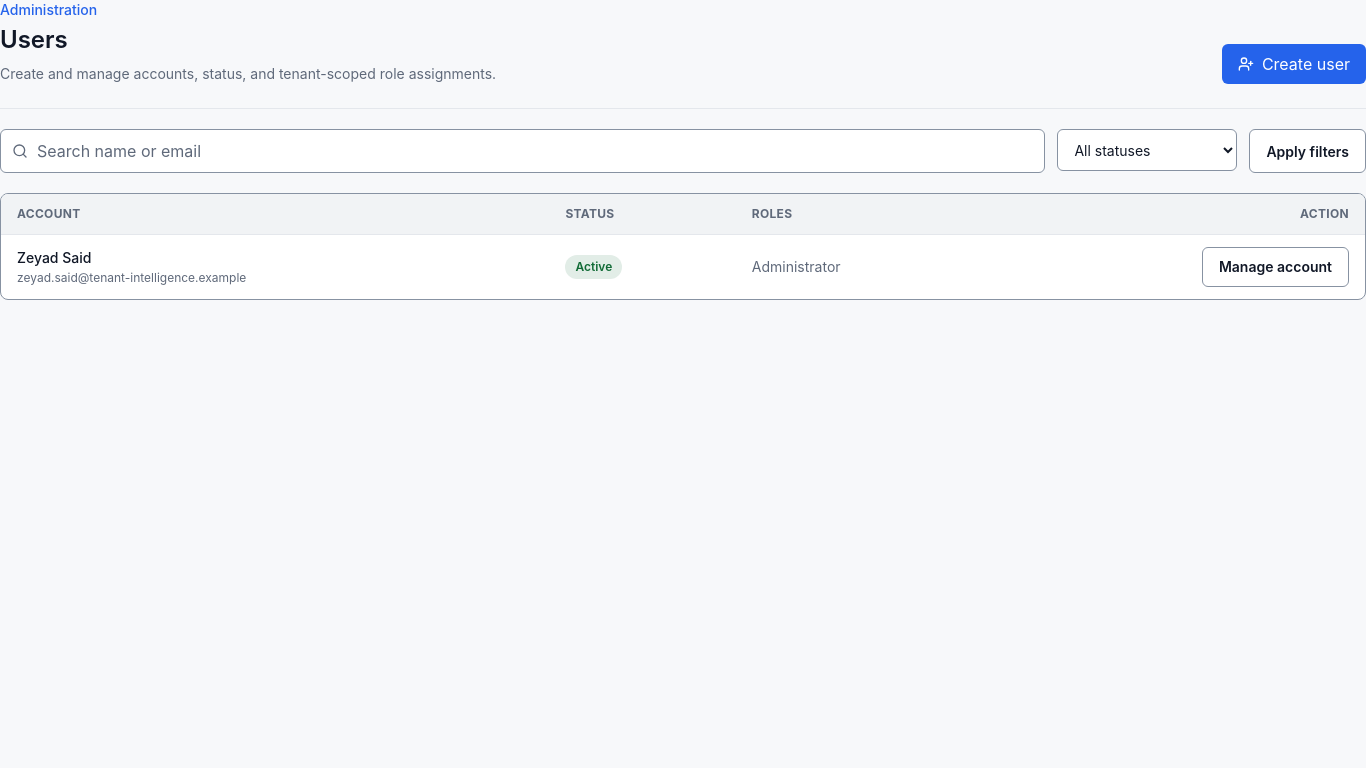
closes on the backdrop but not an inside click
Expected: the text "zeyad.said@tenant-intelligence.example" is shown, left=17, top=270, right=246, bottom=285
Click the button "Create user": (1294, 64) left=1222, top=44, right=1365, bottom=84
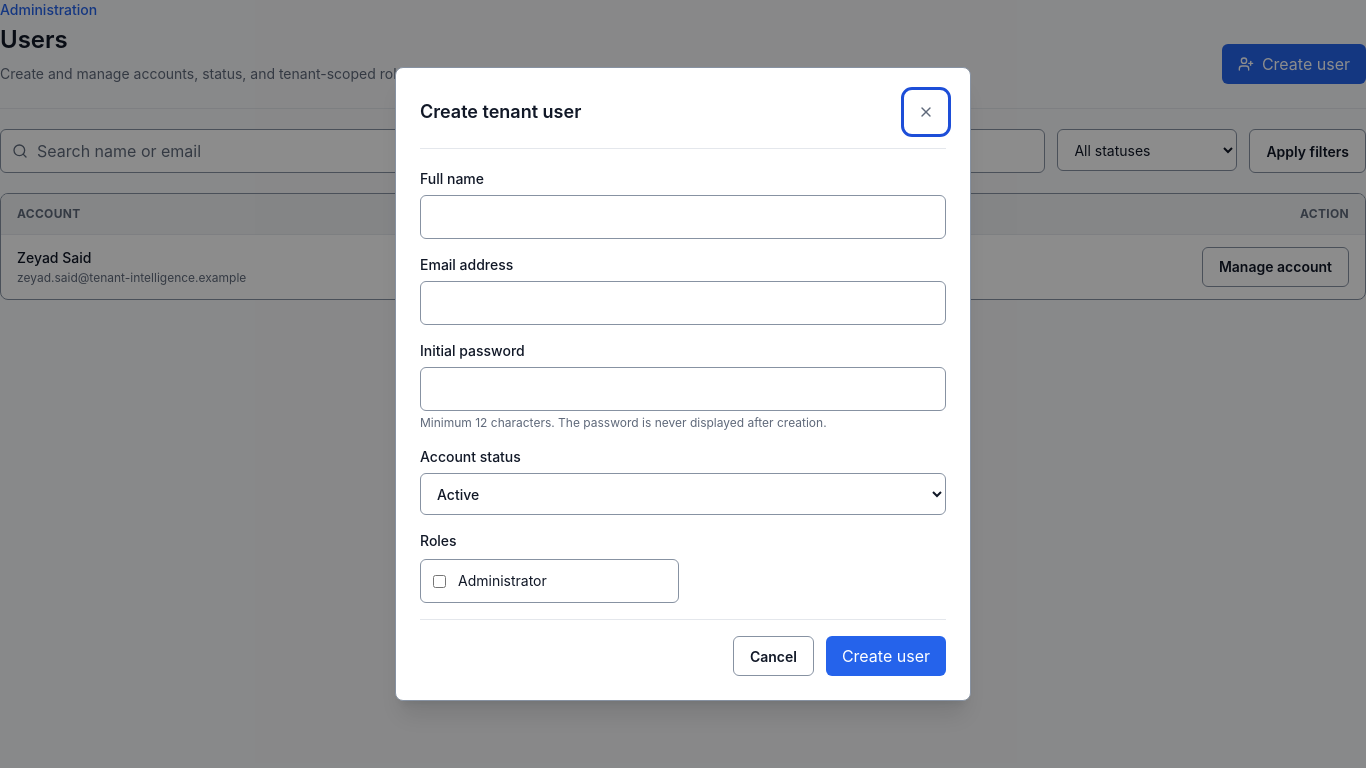
Press the mouse on the dialog "Create tenant user": (683, 384) left=395, top=67, right=971, bottom=701
Result: the dialog "Create tenant user" is shown at left=395, top=67, right=971, bottom=701
Press the mouse on the element that starts with "Create tenant user": (683, 384) left=0, top=0, right=1365, bottom=767
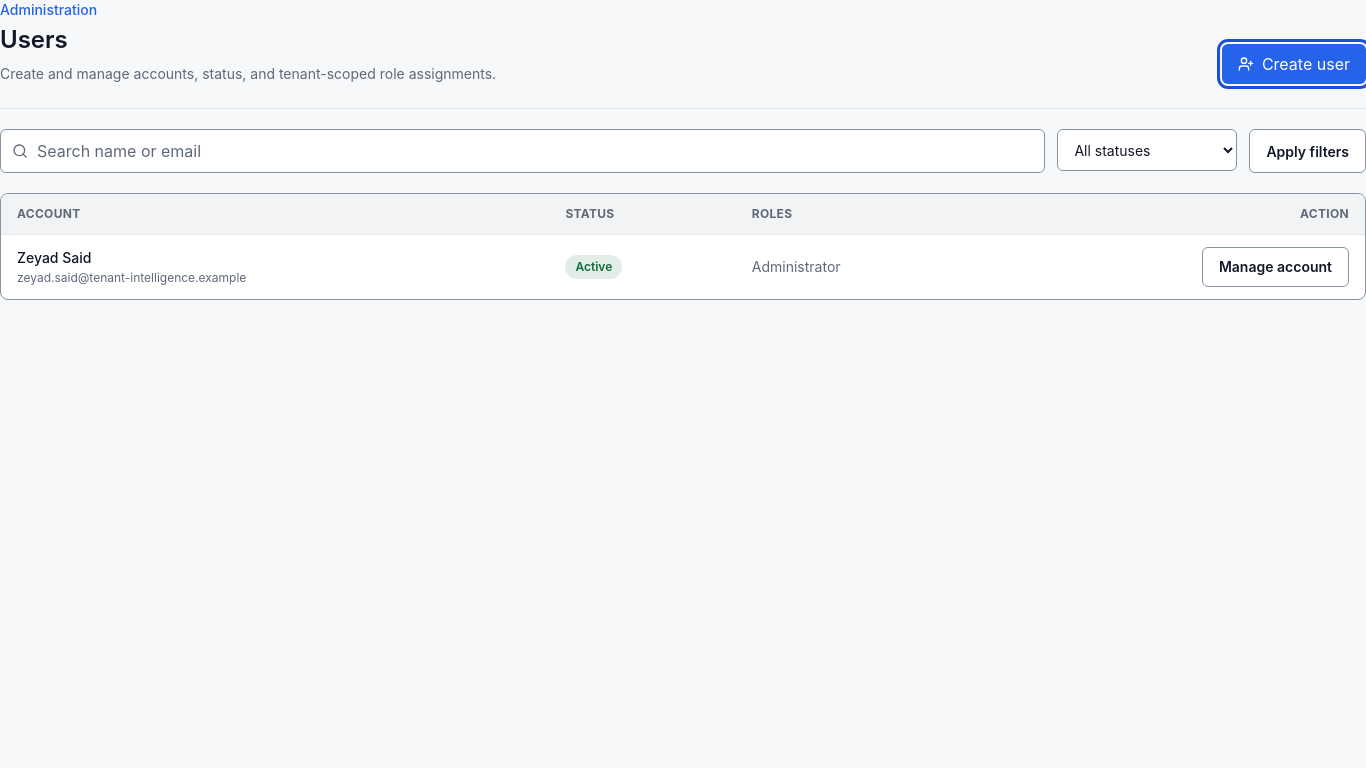
Result: the dialog is gone
